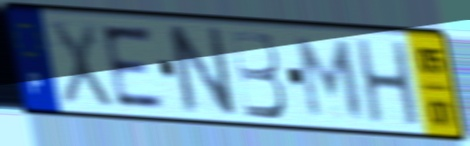B: (227, 27, 290, 121)
E: (97, 23, 169, 110)
H: (352, 37, 424, 129)
M: (295, 34, 367, 121)
N: (162, 23, 241, 120)
X: (46, 16, 116, 111)
